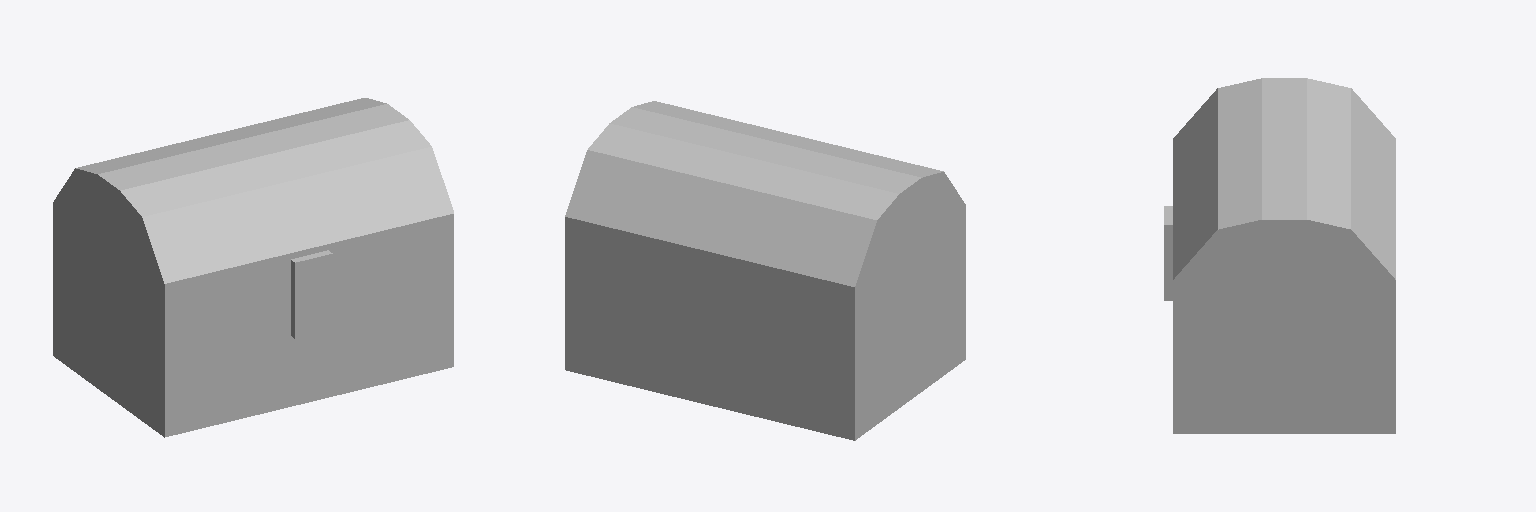
File: chest.obj
The picture shows the model from 3 angles: view 1: azimuth 30°, elevation 25°; view 2: azimuth 150°, elevation 25°; view 3: azimuth 270°, elevation 25°; orthographic projection.
Visible parts, largest first — view 1: chest; view 2: chest; view 3: chest.
Boxes of the visible parts, box(x1,y1,x2,y2) form: chest: box(53, 98, 453, 437); chest: box(565, 101, 965, 440); chest: box(1164, 78, 1395, 433).
Bounding box in the file's own units: 3 × 2.12 × 2.08.